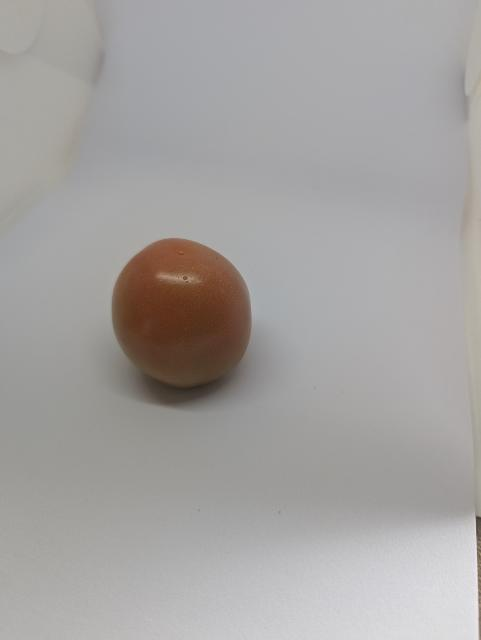turning: (100, 230, 260, 397)
